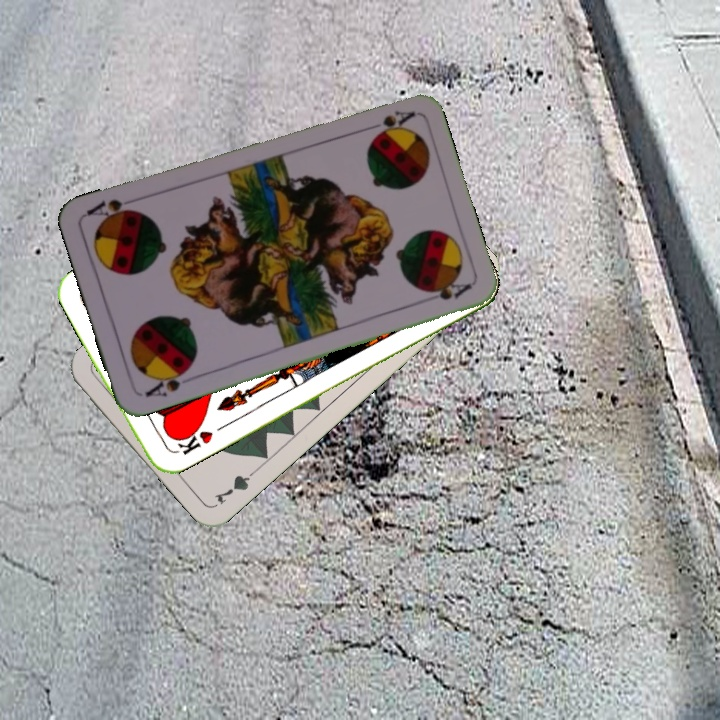G7: (209, 463, 262, 508)
HK: (168, 421, 216, 458)
SA: (141, 363, 197, 400), (359, 106, 417, 138)
